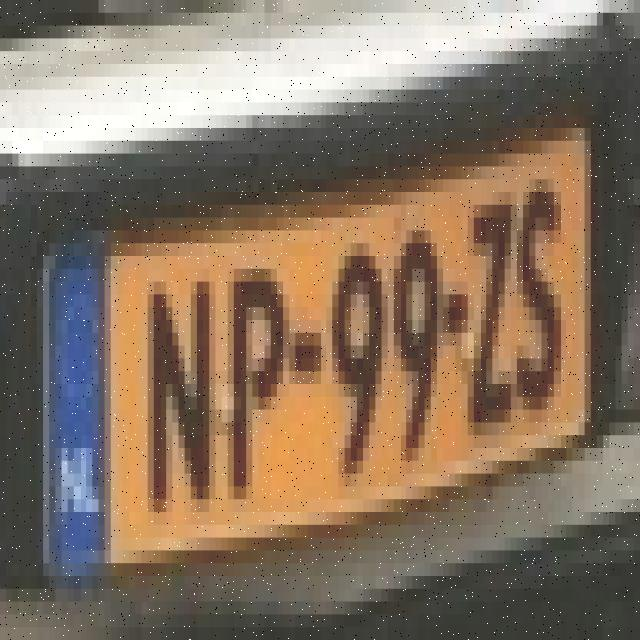licenseplate: (39, 197, 610, 566)
